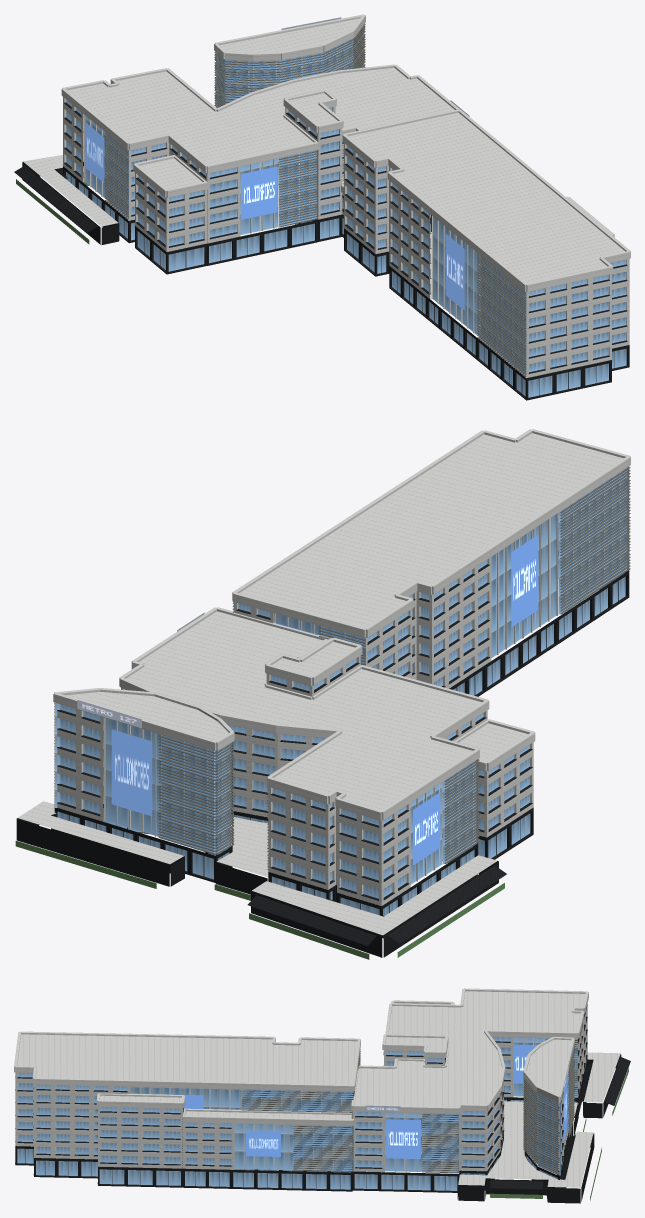
File: metro127.glb
3 views of the same model, one above another, from view 1: azimuth 30°, elevation 25°; view 2: azimuth 150°, elevation 25°; view 3: azimuth 270°, elevation 25° (orthographic). The views are drawn at different scales.
Parts seen in each view (by area): view 1: Metro127_Sonesta_PBR; view 2: Metro127_Sonesta_PBR; view 3: Metro127_Sonesta_PBR.
Part boxes in pixels (x1,y1,x2,y2): Metro127_Sonesta_PBR: [14, 14, 630, 400]; Metro127_Sonesta_PBR: [15, 429, 630, 959]; Metro127_Sonesta_PBR: [14, 988, 630, 1203].
Size of the model in its own units: 67.51 by 22.09 by 123.
8 materials, 7 textured.
